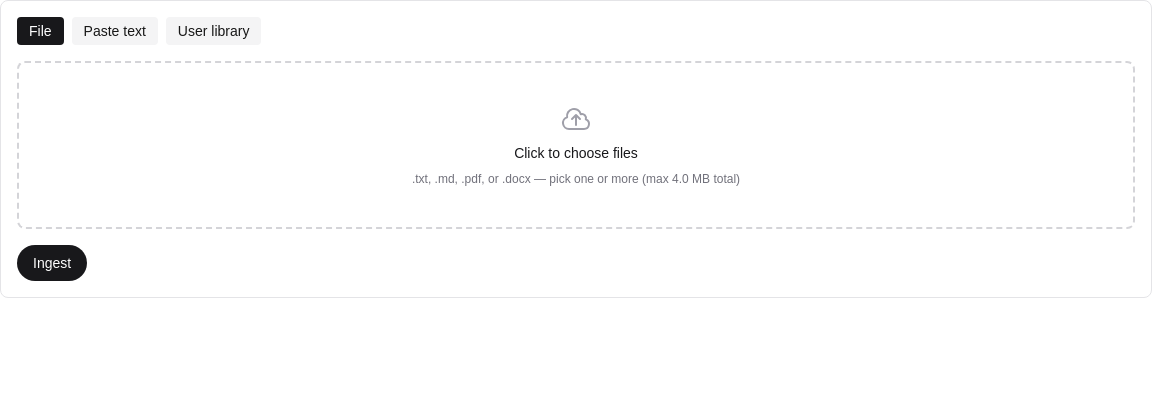
Test: FileUpload › a non-stream rejection shows the server's sentence, or the status when there is none
Click the button "Paste text" at (115, 31), box [72,17,158,45]
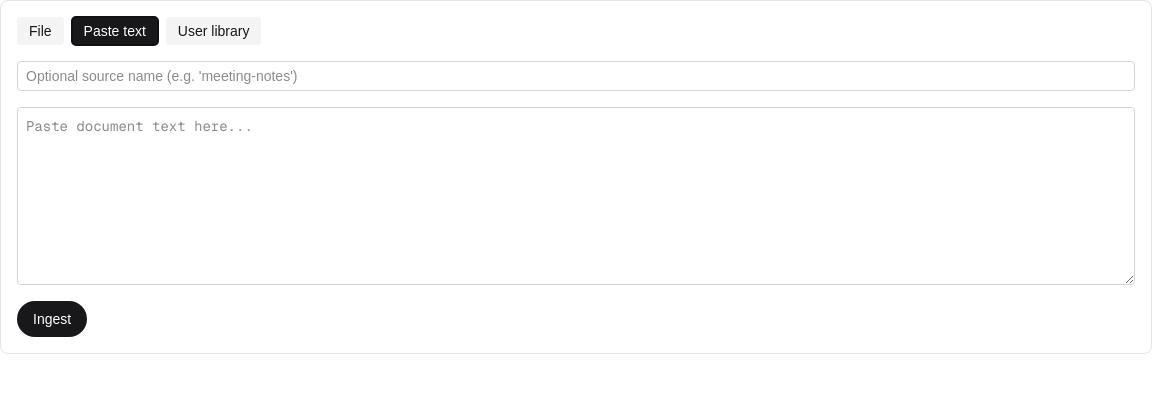
Type "x" into the text box with placeholder "Paste document text here..." at (576, 196), box [17,107,1135,285]
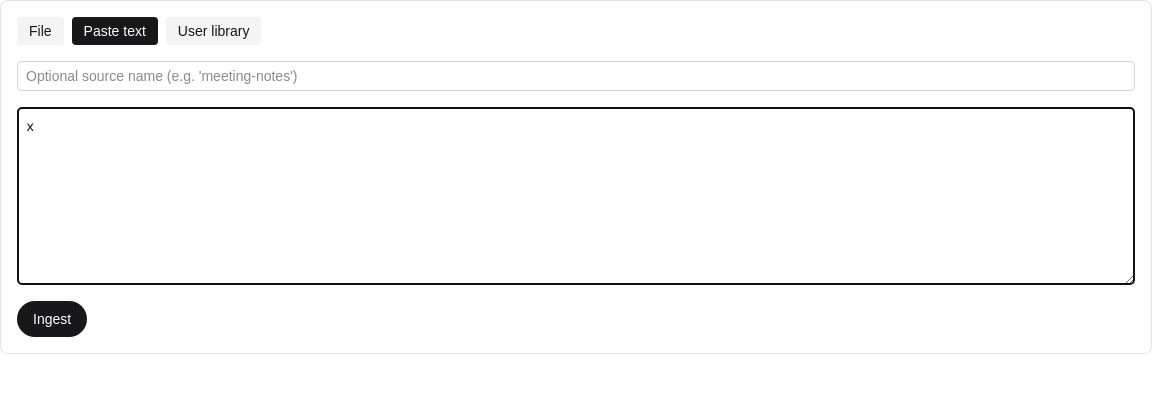
Click the button "Ingest" at (52, 319), box [17,301,87,337]
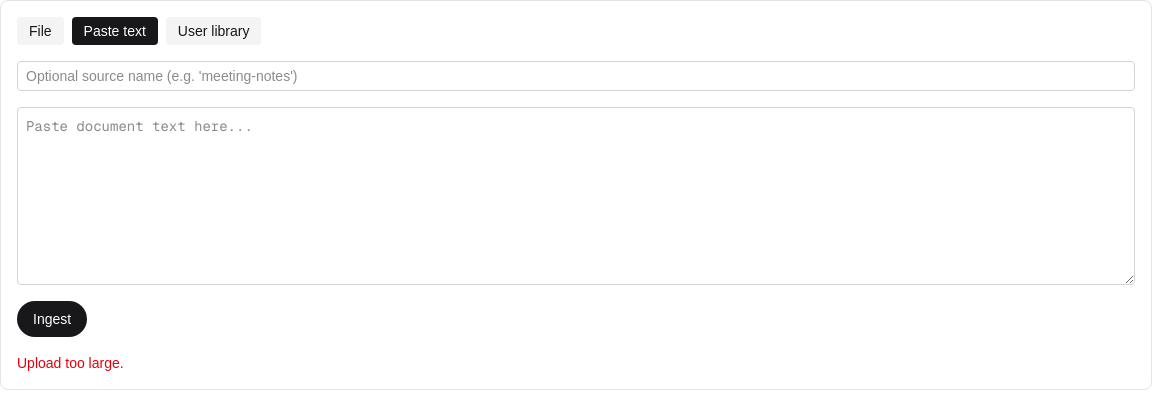
Now the text "Upload too large." is shown, box [17,355,124,371]
Type "y" into the text box with placeholder "Paste document text here..." at (576, 196), box [17,107,1135,285]
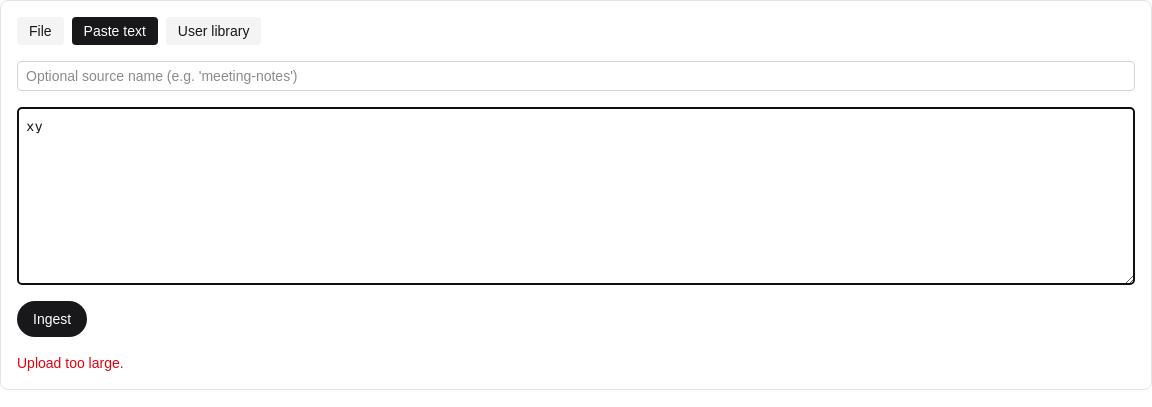
Click the button "Ingest" at (52, 319), box [17,301,87,337]
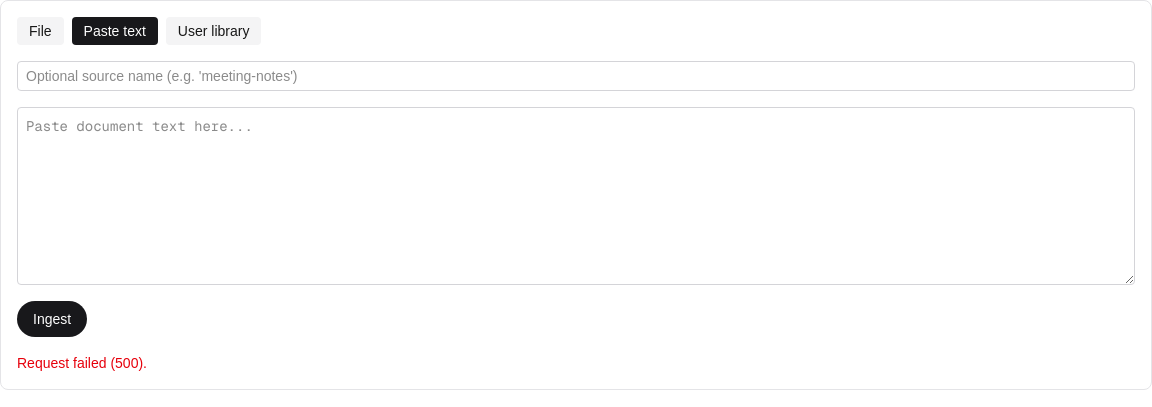
Now the text "Request failed (500)." is shown, box [17,355,147,371]
